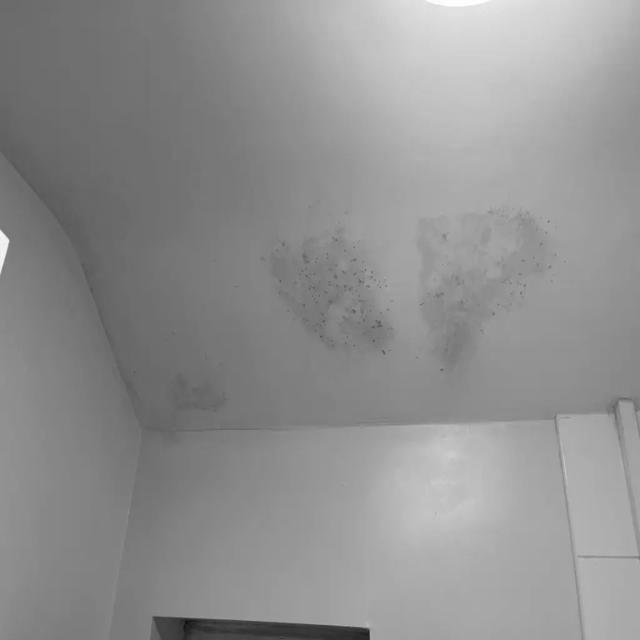stain marks: (252, 190, 400, 390), (407, 208, 570, 389), (14, 122, 144, 284), (126, 343, 232, 460)
